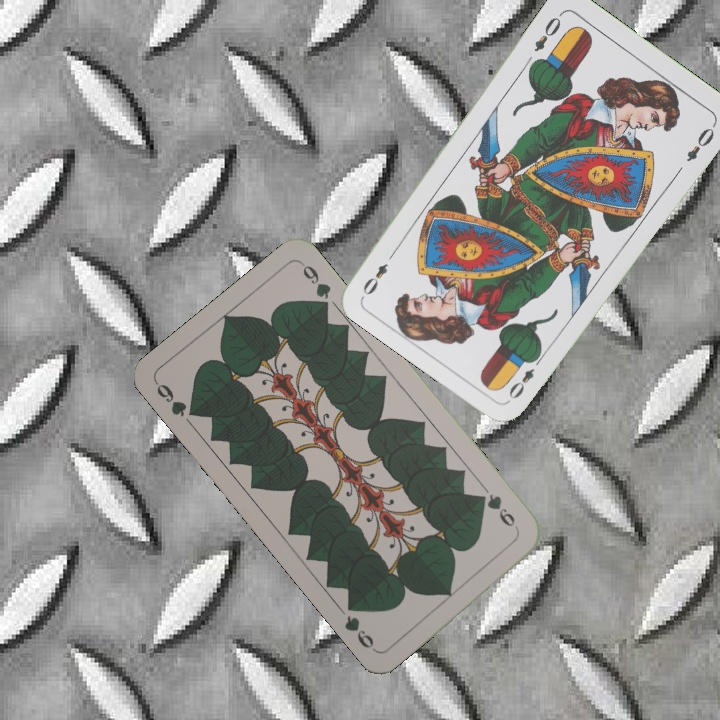EO: (504, 351, 546, 402), (530, 8, 565, 55)
G9: (474, 489, 522, 534), (151, 378, 202, 420)
